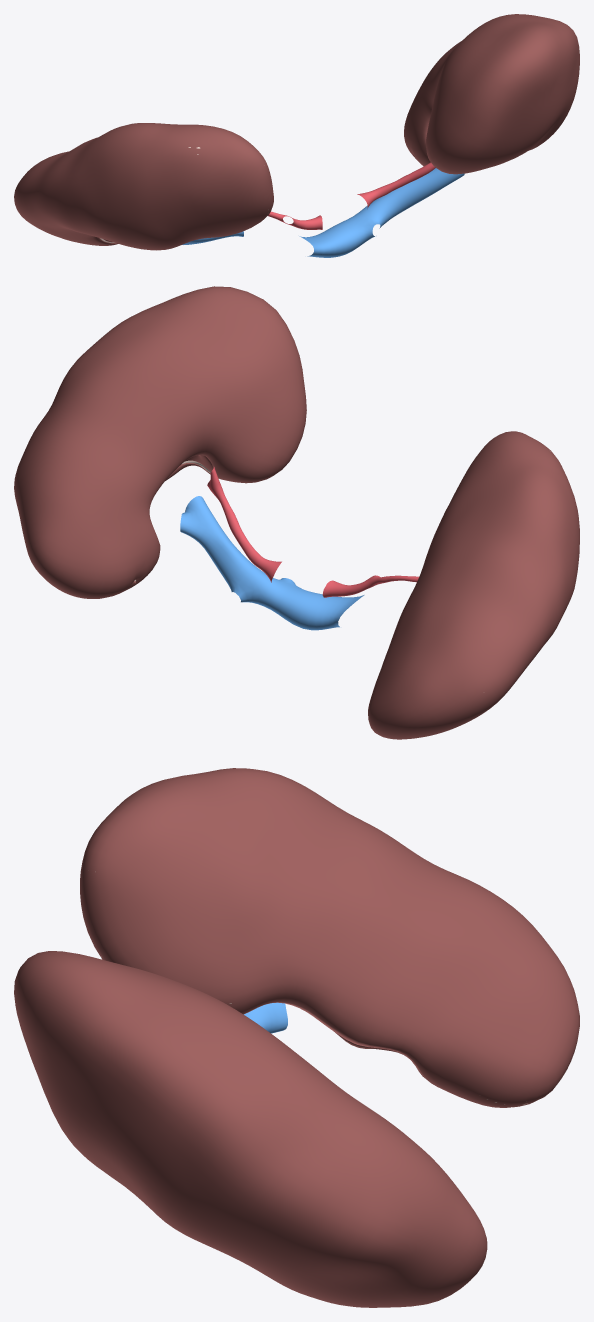
The model's file is kidneys-male.glb.
3 renders of one model, top to bottom at view 1: azimuth 30°, elevation 25°; view 2: azimuth 150°, elevation 25°; view 3: azimuth 270°, elevation 25°, orthographic. The views are drawn at different scales.
Parts seen in each view (by area): view 1: VH_M_kidney_capsule_R, VH_M_kidney_capsule_L, VH_M_renal_vein_L, VH_M_right_renal_artery, VH_M_left_renal_artery; view 2: VH_M_kidney_capsule_L, VH_M_kidney_capsule_R, VH_M_renal_vein_L, VH_M_right_renal_artery, VH_M_left_renal_artery; view 3: VH_M_kidney_capsule_R, VH_M_kidney_capsule_L, VH_M_renal_vein_R.
Part boxes in pixels (x1=…): VH_M_kidney_capsule_R: x1=14, y1=123, x2=273, y2=250; VH_M_kidney_capsule_L: x1=404, y1=14, x2=579, y2=174; VH_M_renal_vein_L: x1=299, y1=168, x2=464, y2=257; VH_M_right_renal_artery: x1=357, y1=162, x2=435, y2=208; VH_M_left_renal_artery: x1=268, y1=211, x2=322, y2=229; VH_M_kidney_capsule_L: x1=14, y1=286, x2=306, y2=598; VH_M_kidney_capsule_R: x1=368, y1=431, x2=579, y2=739; VH_M_renal_vein_L: x1=180, y1=496, x2=364, y2=630; VH_M_right_renal_artery: x1=207, y1=467, x2=281, y2=582; VH_M_left_renal_artery: x1=322, y1=575, x2=418, y2=597; VH_M_kidney_capsule_R: x1=80, y1=768, x2=579, y2=1107; VH_M_kidney_capsule_L: x1=14, y1=951, x2=487, y2=1307; VH_M_renal_vein_R: x1=244, y1=1002, x2=287, y2=1033.
Size of the model in its own units: 206 by 93.63 by 127.
